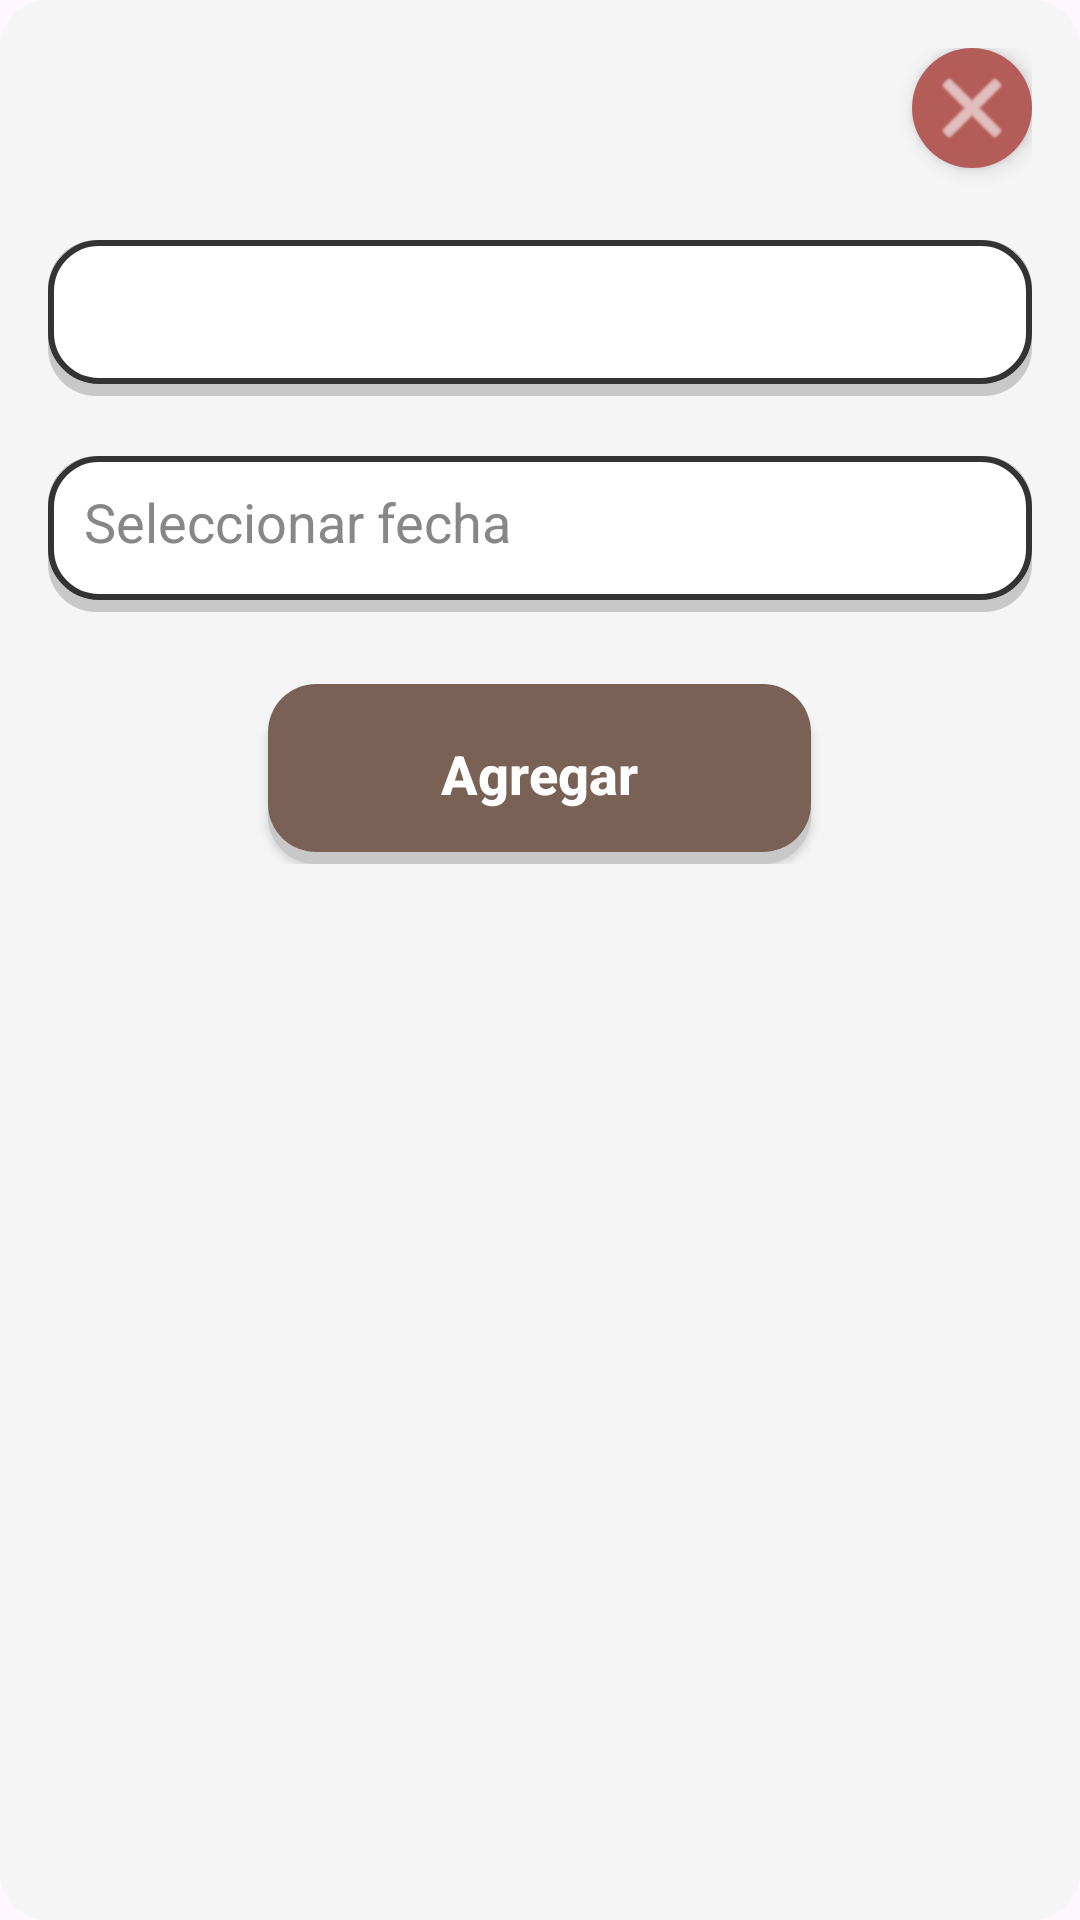

Named icons in this screenshot (1080×1920) and their bounding boxes, (x1, y1, x2, y2):
close clear cancel: (912, 48, 1032, 168)
